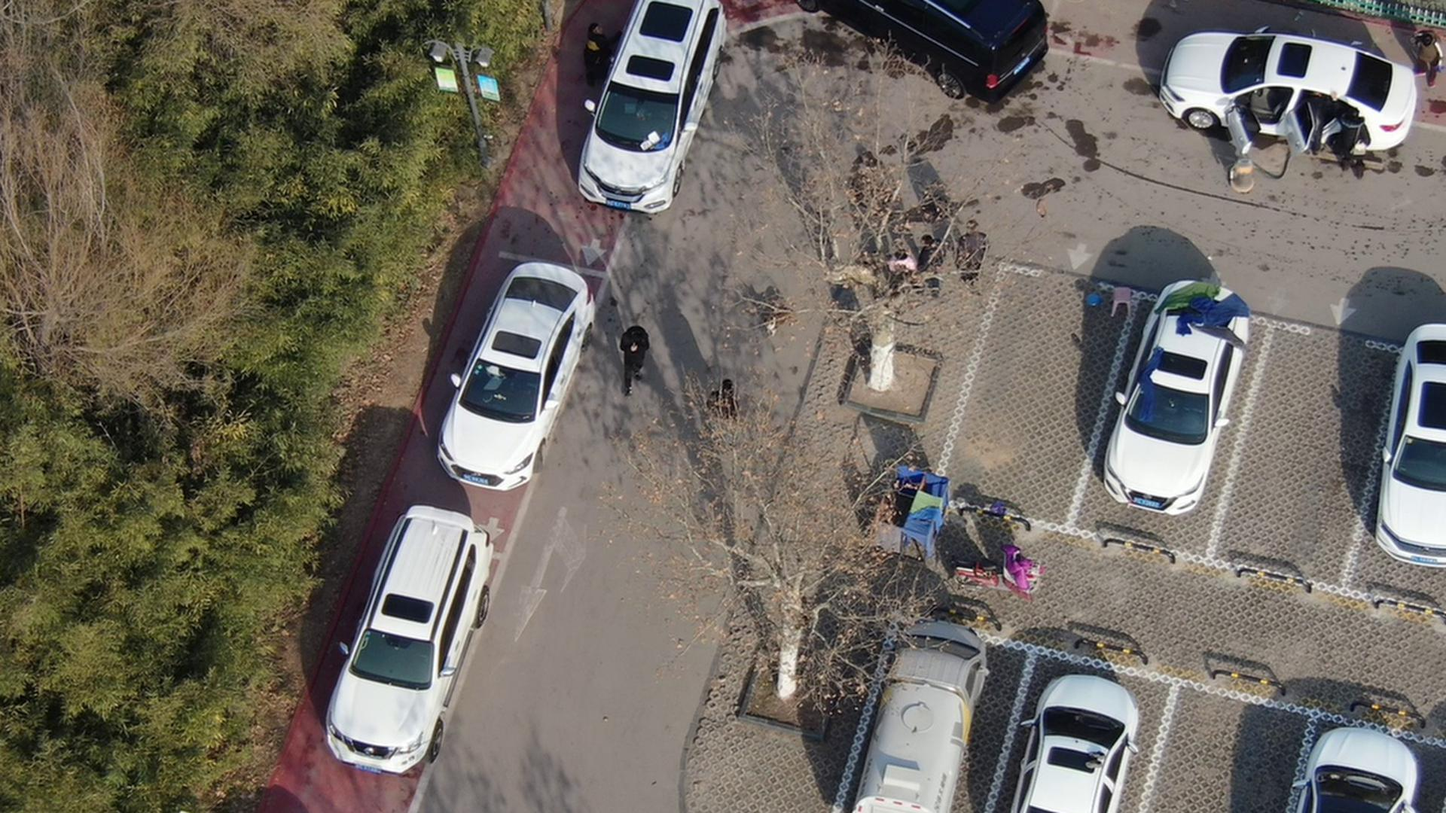human: (617, 314, 663, 399), (1335, 87, 1371, 183), (956, 219, 1001, 294), (589, 15, 626, 88), (920, 224, 956, 294), (1411, 29, 1445, 89), (1302, 90, 1330, 159)
